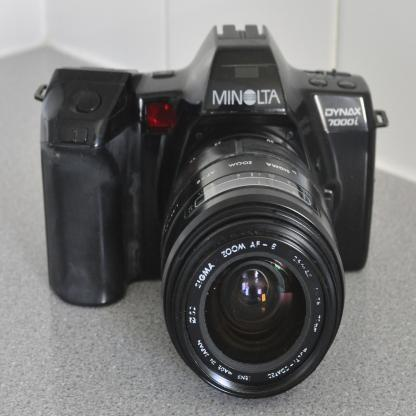Camera: (35, 23, 391, 404)
